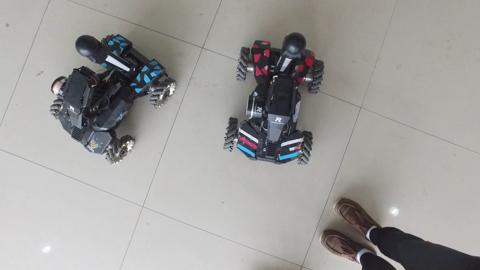chariot: (37, 26, 182, 171), (224, 27, 326, 171)
